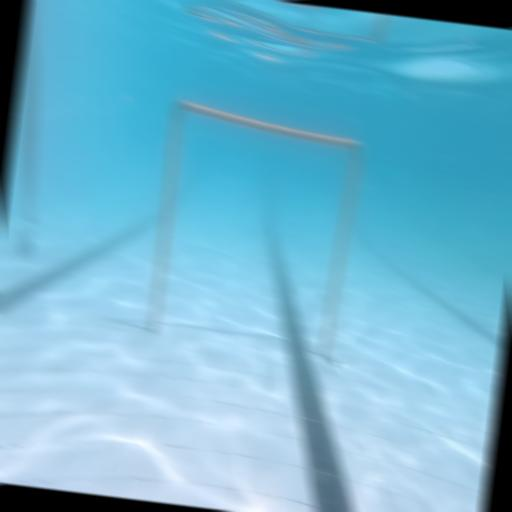gate: (144, 98, 369, 370)
